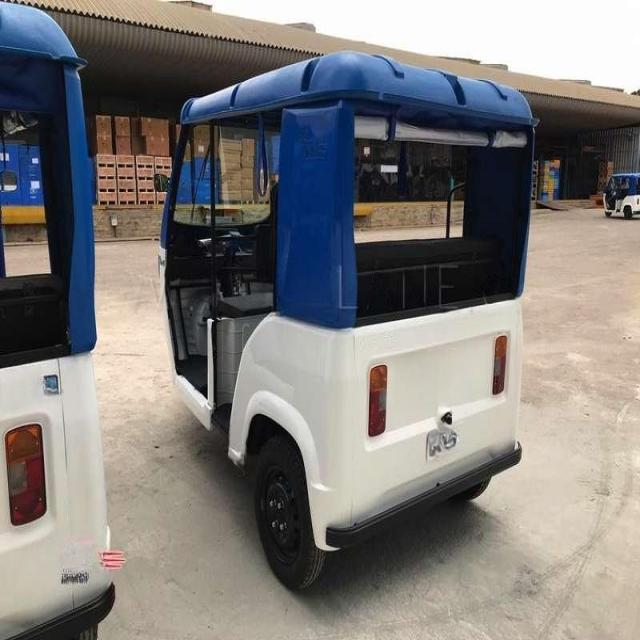autorickshaw: (160, 53, 535, 588)
